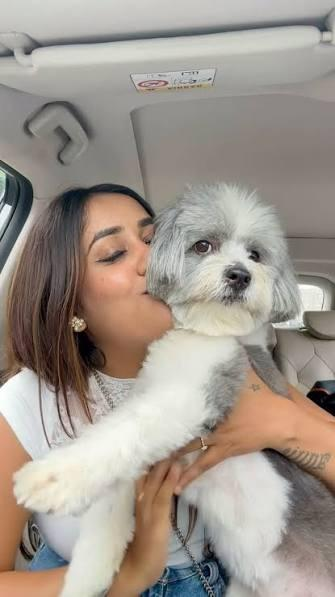adult_dog: (9, 181, 335, 597)
non-dog: (0, 180, 335, 597)
